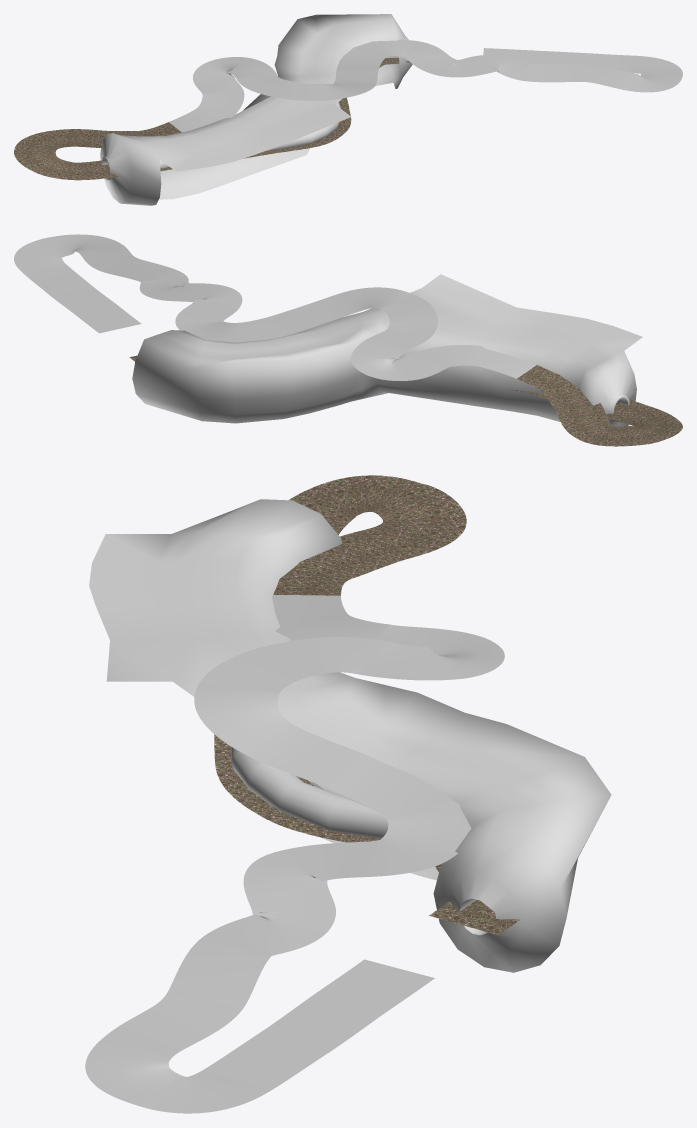
Rendered from tunnel02.FBX.
3 views of the same model, one above another, from view 1: azimuth 30°, elevation 25°; view 2: azimuth 150°, elevation 25°; view 3: azimuth 270°, elevation 25° (orthographic). The views are drawn at different scales.
Visible parts, largest first — view 1: New_Game_Object, Tube001, tunnell_inside; view 2: Tube001, New_Game_Object; view 3: New_Game_Object, Tube001, tunnell_inside.
Part boxes in pixels (x1=…): New_Game_Object: x1=14, y1=39, x2=682, y2=180; Tube001: x1=100, y1=14, x2=412, y2=205; tunnell_inside: x1=102, y1=56, x2=399, y2=171; Tube001: x1=132, y1=274, x2=642, y2=426; New_Game_Object: x1=14, y1=234, x2=682, y2=446; New_Game_Object: x1=85, y1=475, x2=519, y2=1113; Tube001: x1=89, y1=499, x2=611, y2=972; tunnell_inside: x1=231, y1=746, x2=487, y2=935.
Bounding box in the file's own units: 966 × 114 × 359.
